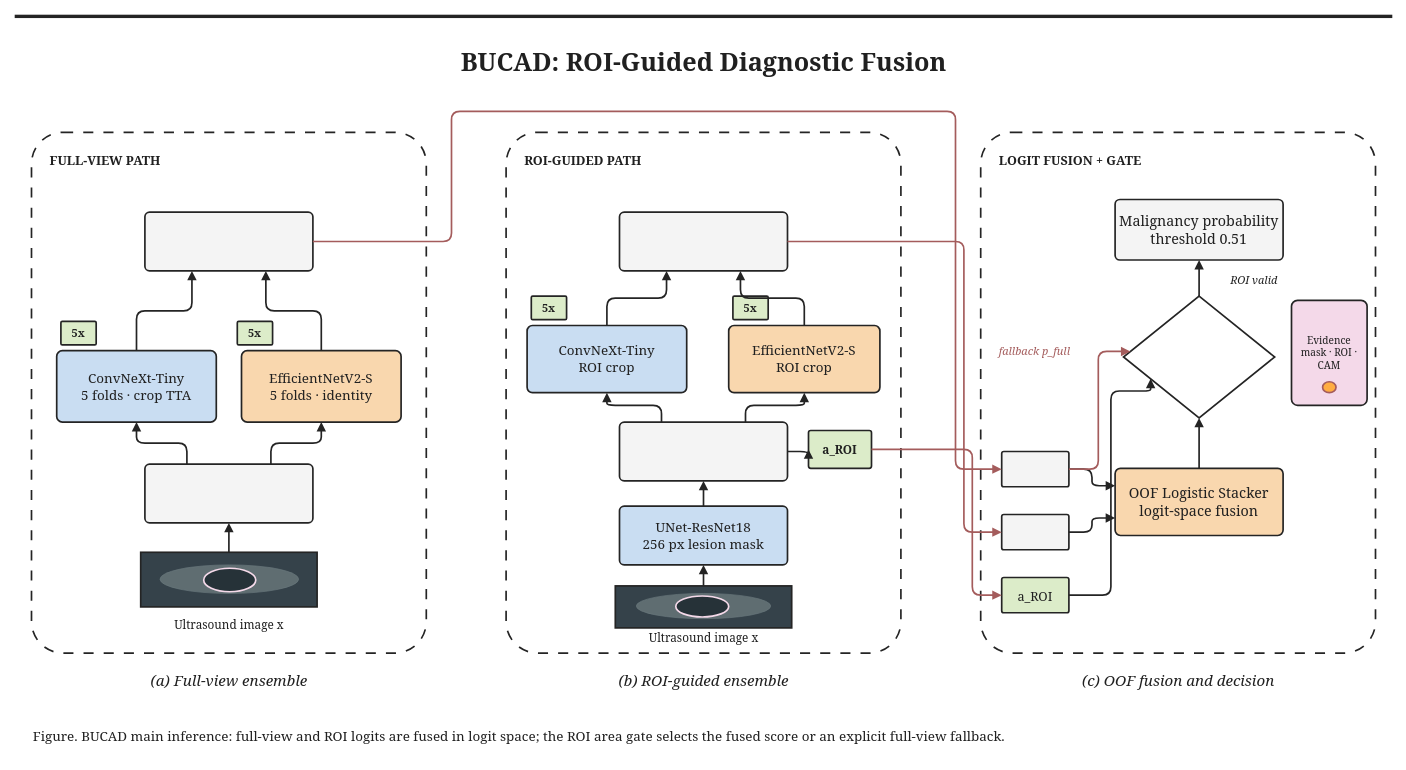
This 1406x770 diagram has some shape labels left out. The shapes that lost their labels are listed below. From the top down, each one's centre as x and y in pixels, then its label:
At (228,241): "Full-view logit p_full".
At (703,241): "ROI logit p_roi".
At (1198,356): "ROI quality gate 0.08 <= a <= 0.75".
At (703,451): "Mask 0.40 + LCC ROI margin 0.35".
At (1034,468): "p_full".
At (228,493): "CLAHE + model transforms".
At (1034,531): "p_roi".
